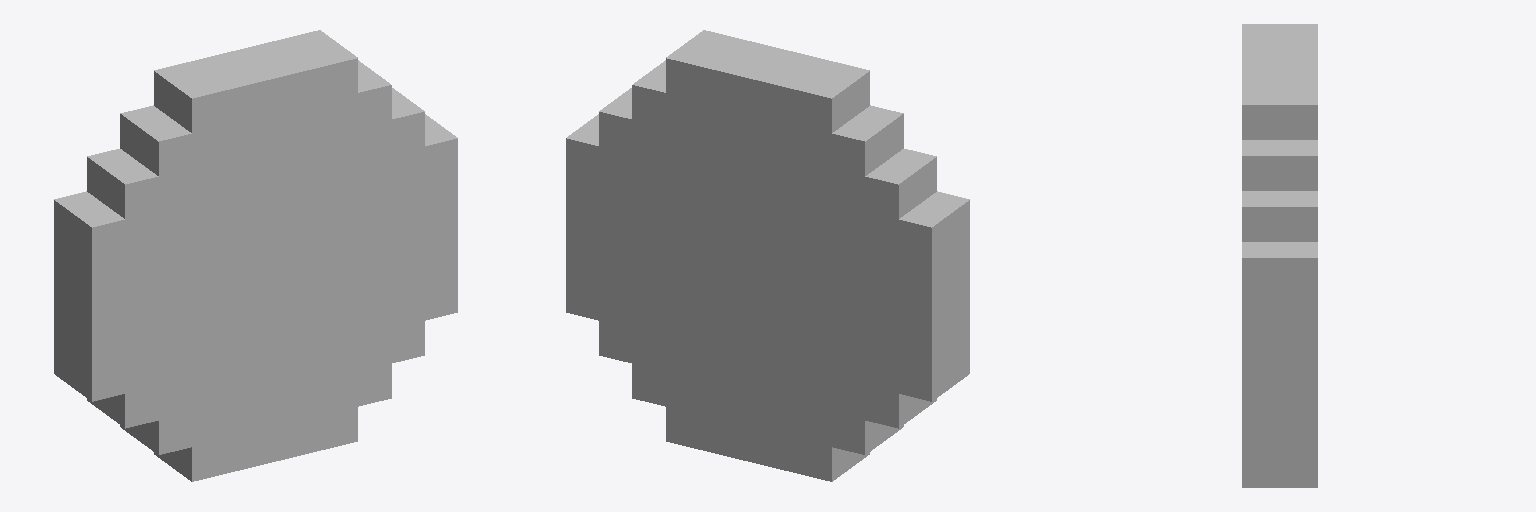
The model's file is money.obj.
3 renders of one model, left to right at view 1: azimuth 30°, elevation 25°; view 2: azimuth 150°, elevation 25°; view 3: azimuth 270°, elevation 25°, orthographic.
Visible parts, largest first — view 1: object 1; view 2: object 1; view 3: object 1.
Part boxes in pixels (left/top/right/bottom): object 1: left=54, top=30, right=457, bottom=481; object 1: left=566, top=30, right=969, bottom=481; object 1: left=1242, top=24, right=1317, bottom=487.
Bounding box in the file's own units: 1.1 × 1.1 × 0.2.